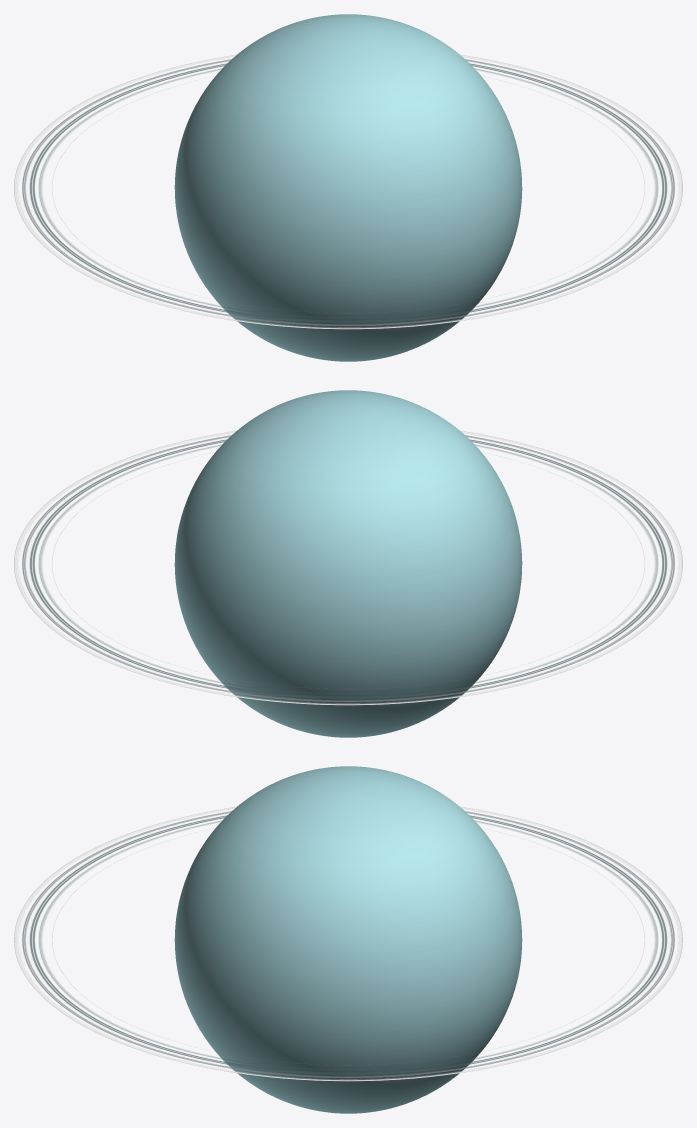
File: uranus.glb
3 views of the same model, one above another, from view 1: azimuth 30°, elevation 25°; view 2: azimuth 150°, elevation 25°; view 3: azimuth 270°, elevation 25° (orthographic).
Parts seen in each view (by area): view 1: Uranus; view 2: Uranus; view 3: Uranus.
Boxes of the visible parts, x1,y1,x2,y2 form: Uranus: (14, 14, 682, 361); Uranus: (14, 390, 682, 737); Uranus: (14, 766, 682, 1113).
Bounding box in the file's own units: 5.84 × 3.03 × 5.84.
Materials: 2 (2 with a texture image).
